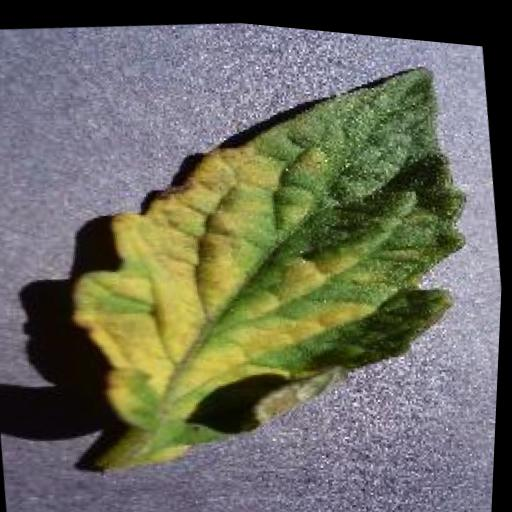Leaf Mold: (42, 24, 504, 502)
